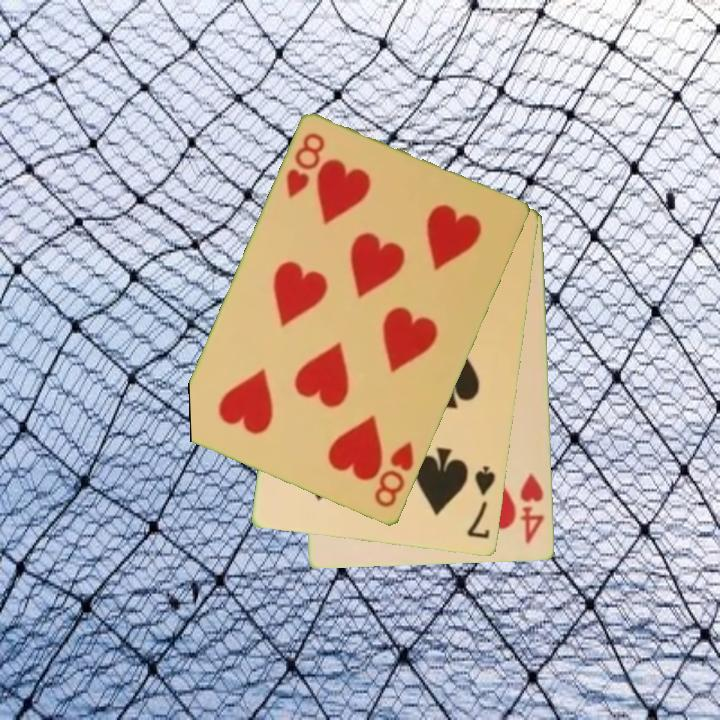4h: (516, 470, 547, 547)
7s: (463, 463, 499, 543)
8h: (371, 439, 417, 511), (282, 130, 328, 202)
